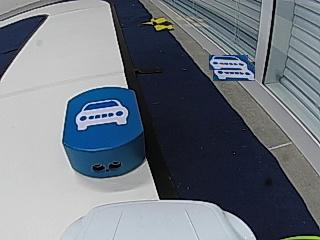safety: (75, 99, 131, 130)
